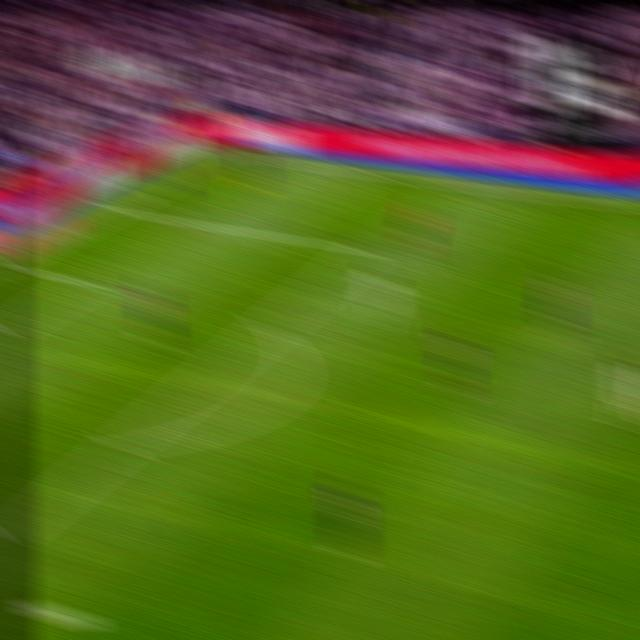bigarea_top_inner: (353, 237, 381, 264)
bigarea_top_outter: (94, 195, 121, 217)
bottom_arc_area_intersection: (106, 429, 137, 461)
corner: (200, 142, 229, 161)
smallarea_top_inner: (75, 268, 103, 295)
top_arc_area_intersection: (256, 312, 285, 340)
